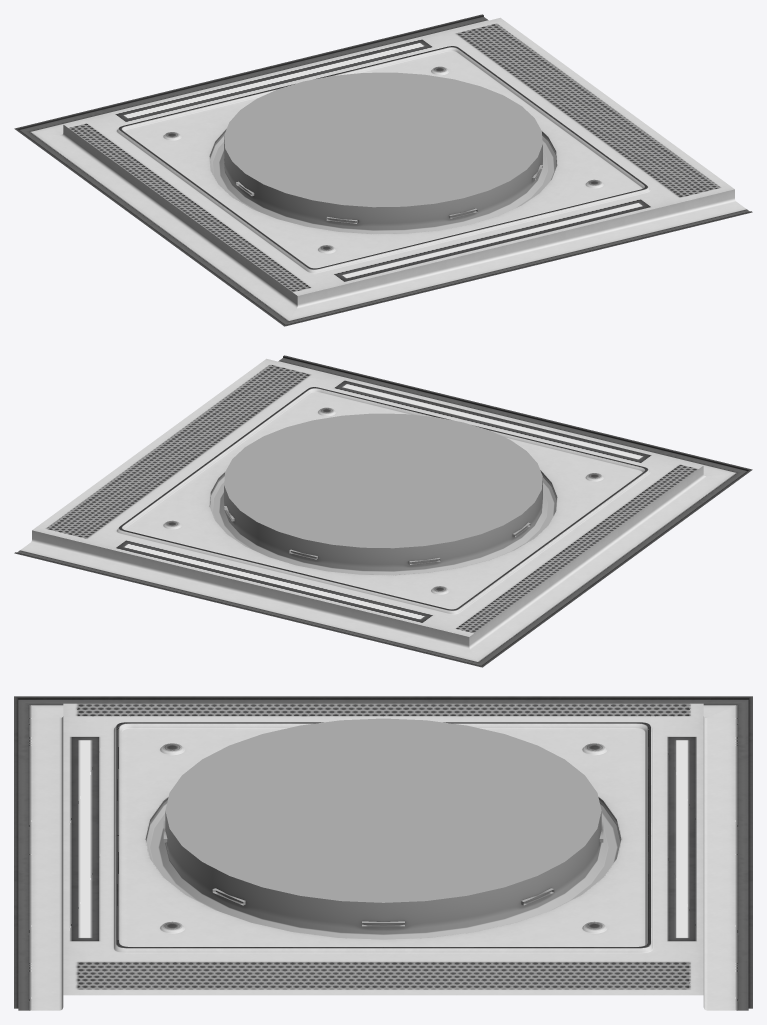
Rendered from SM_MCeiling03-350x350-3.FBX.
The picture shows the model from 3 angles, top to bottom: view 1: azimuth 30°, elevation 25°; view 2: azimuth 150°, elevation 25°; view 3: azimuth 270°, elevation 25°; orthographic projection. The views are drawn at different scales.
Parts seen in each view (by area): view 1: SM_MCeiling03-350x350-3; view 2: SM_MCeiling03-350x350-3; view 3: SM_MCeiling03-350x350-3.
Part boxes in pixels (x1,y1,x2,y2): SM_MCeiling03-350x350-3: [14, 14, 752, 326]; SM_MCeiling03-350x350-3: [14, 355, 752, 667]; SM_MCeiling03-350x350-3: [14, 696, 752, 1010].
Size of what is drawn, in the model's own units: 350 by 350 by 22.86.
